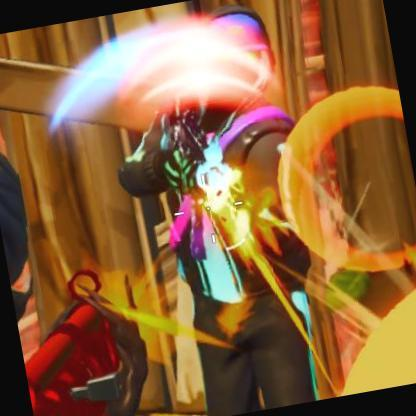person: (171, 25, 338, 413)
